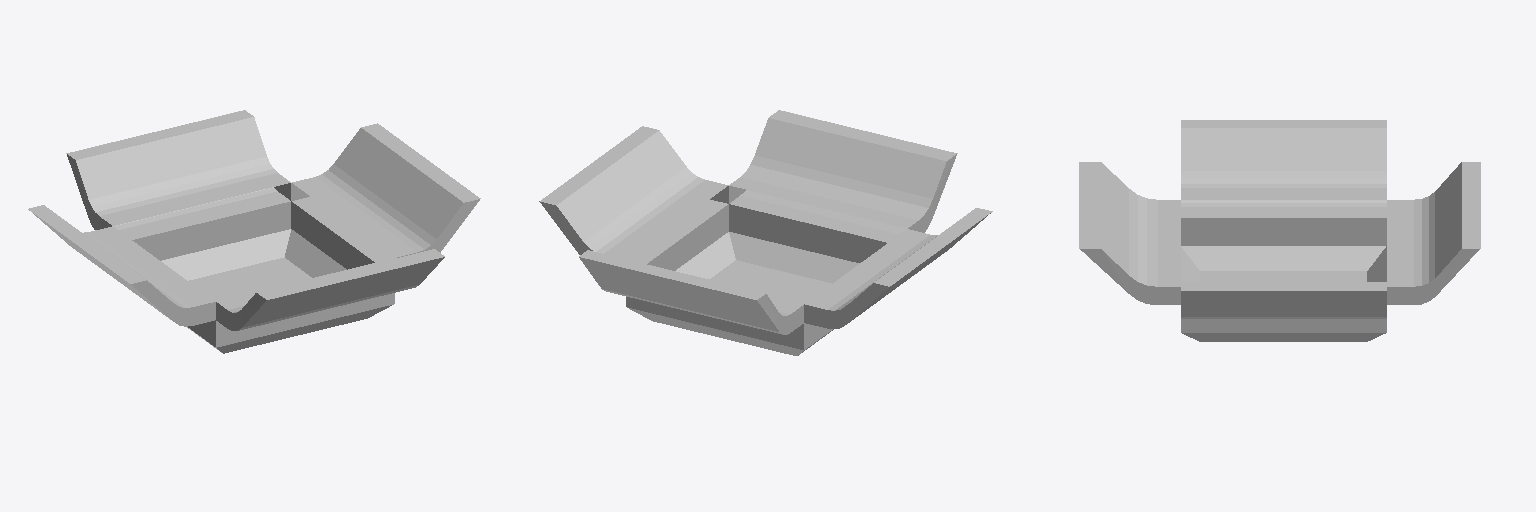
The model's file is Coarsesunsensor.obj.
3 views of the same model, side by side, from view 1: azimuth 30°, elevation 25°; view 2: azimuth 150°, elevation 25°; view 3: azimuth 270°, elevation 25° (orthographic).
Visible parts, largest first — view 1: Box002; view 2: Box002; view 3: Box002.
Part boxes in pixels (bbox=[...]): Box002: bbox=[28, 110, 480, 353]; Box002: bbox=[539, 110, 992, 355]; Box002: bbox=[1079, 120, 1480, 341].
Size of the model in its own units: 10.24 by 2.84 by 10.15.